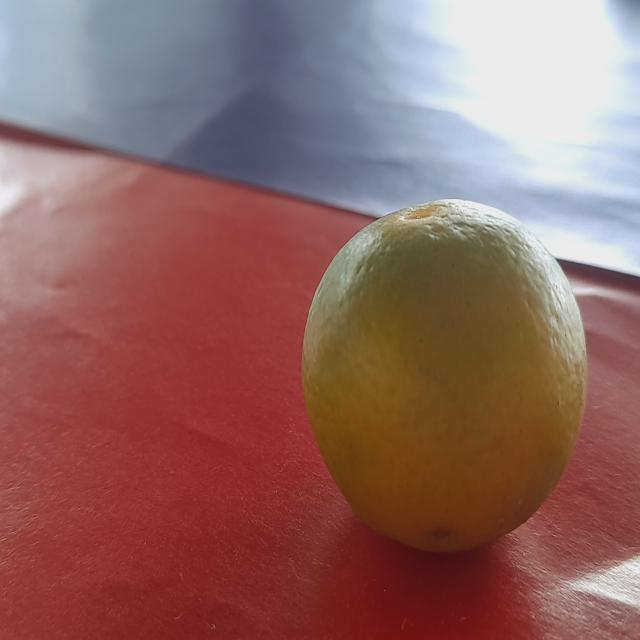greening: (295, 183, 586, 550)
